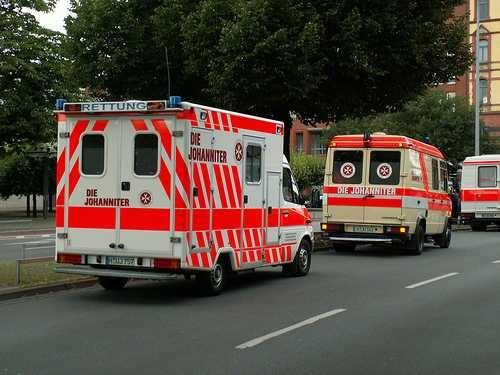car: (52, 95, 315, 294), (320, 130, 453, 254)
